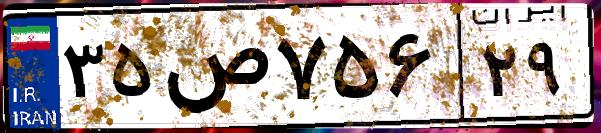2: (475, 38, 525, 113)
3: (57, 26, 110, 100)
5: (330, 28, 385, 110), (110, 28, 158, 98)
6: (385, 28, 445, 110)
7: (270, 28, 330, 110)
9: (525, 38, 570, 115)
ص: (158, 20, 270, 120)
